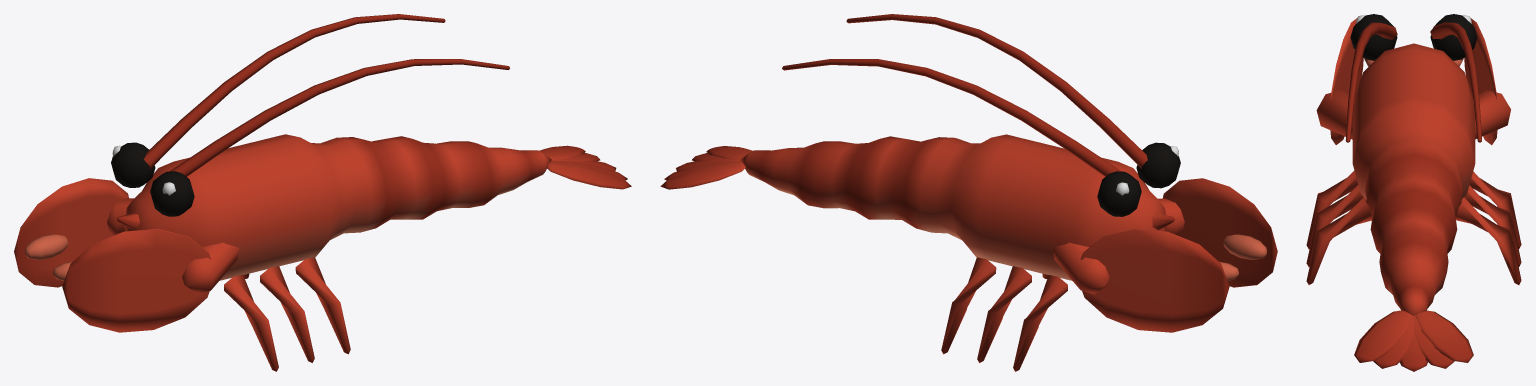
The model's file is Lobster.glb.
The picture shows the model from 3 angles, left to right: view 1: azimuth 30°, elevation 25°; view 2: azimuth 150°, elevation 25°; view 3: azimuth 270°, elevation 25°; orthographic projection. The views are drawn at different scales.
Visible parts, largest first — view 1: Lobster; view 2: Lobster; view 3: Lobster.
Part boxes in pixels (x1,y1,x2,y2): Lobster: (14,14,631,371); Lobster: (660,14,1277,371); Lobster: (1306,14,1521,371).
Bounding box in the file's own units: 1.41 × 0.601 × 0.4451.
